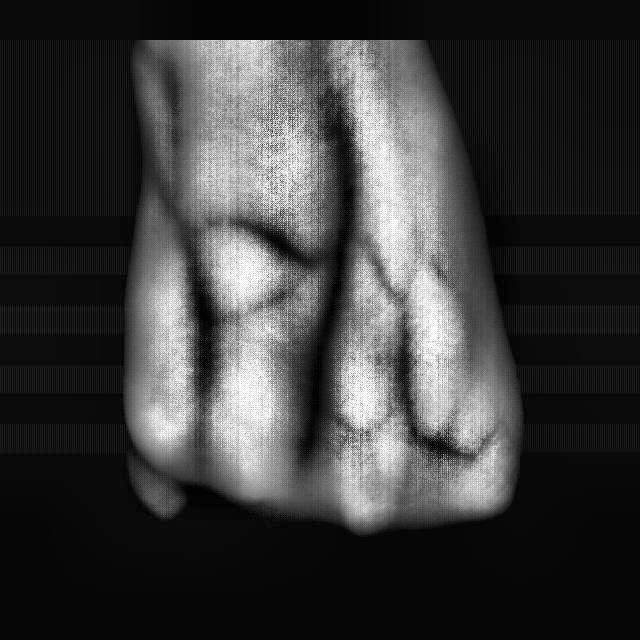Vein: (310, 129, 365, 351)
